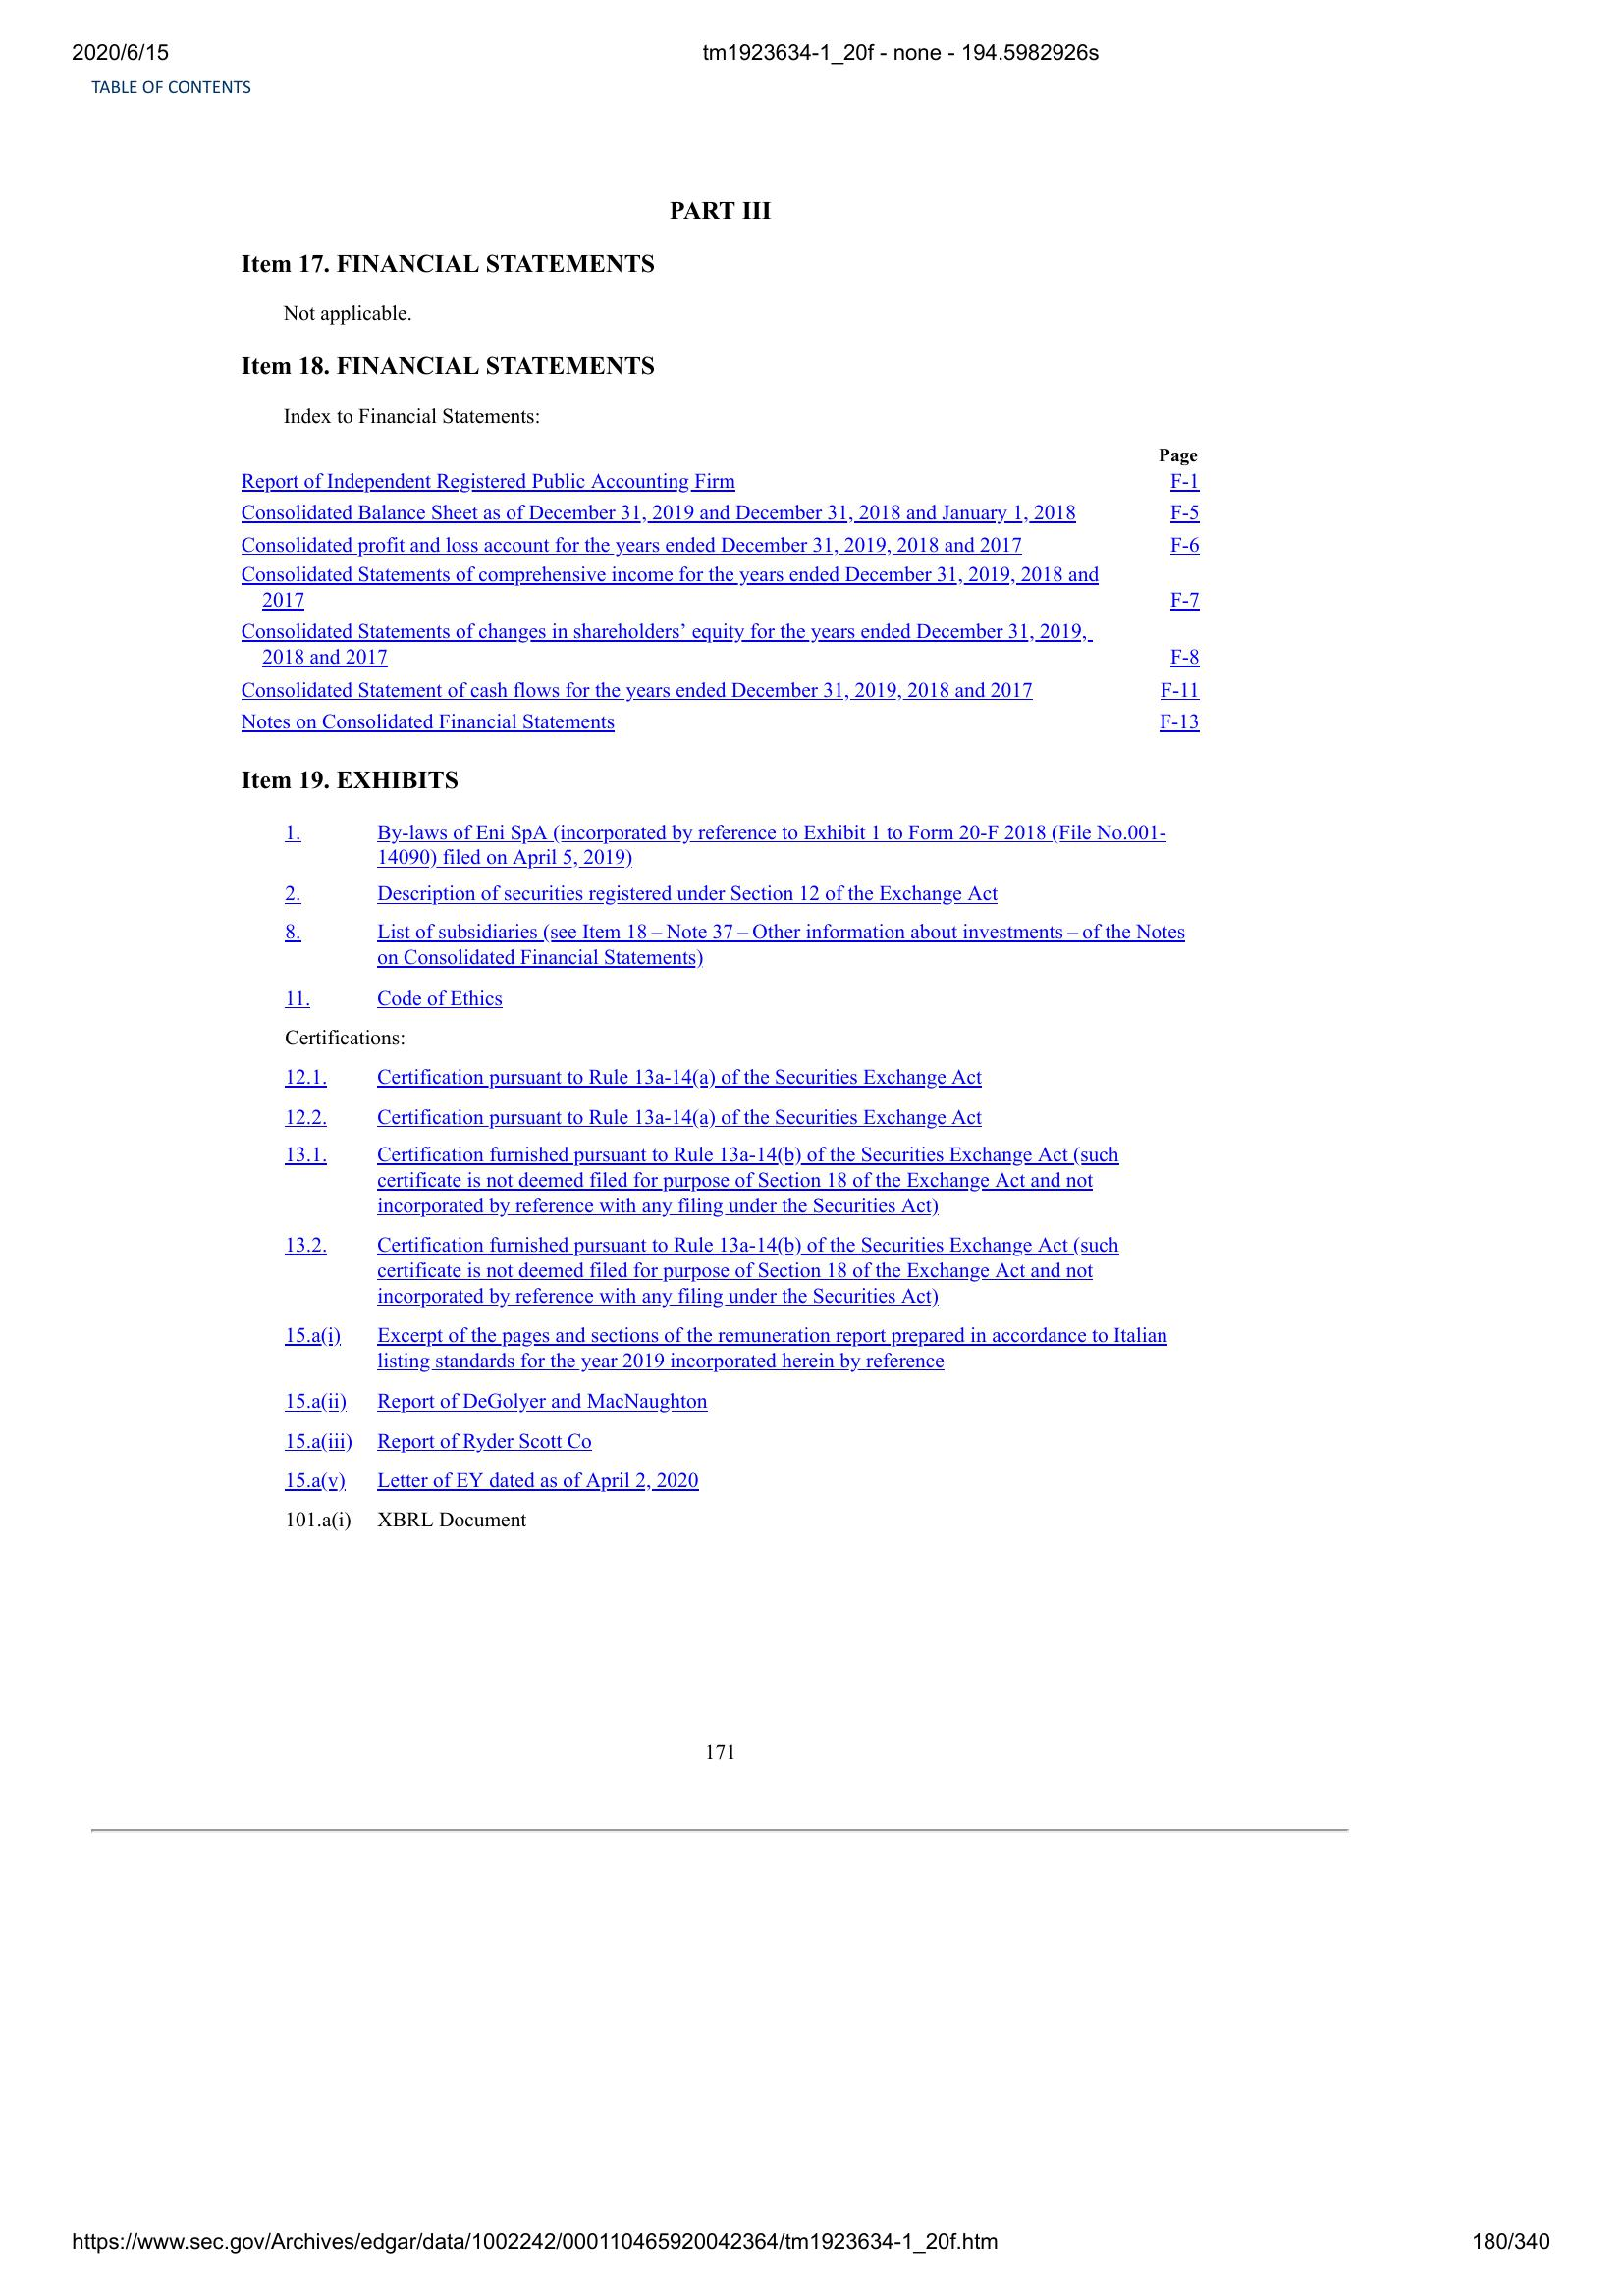table: (276, 814, 1187, 1538), (232, 441, 1217, 748)
